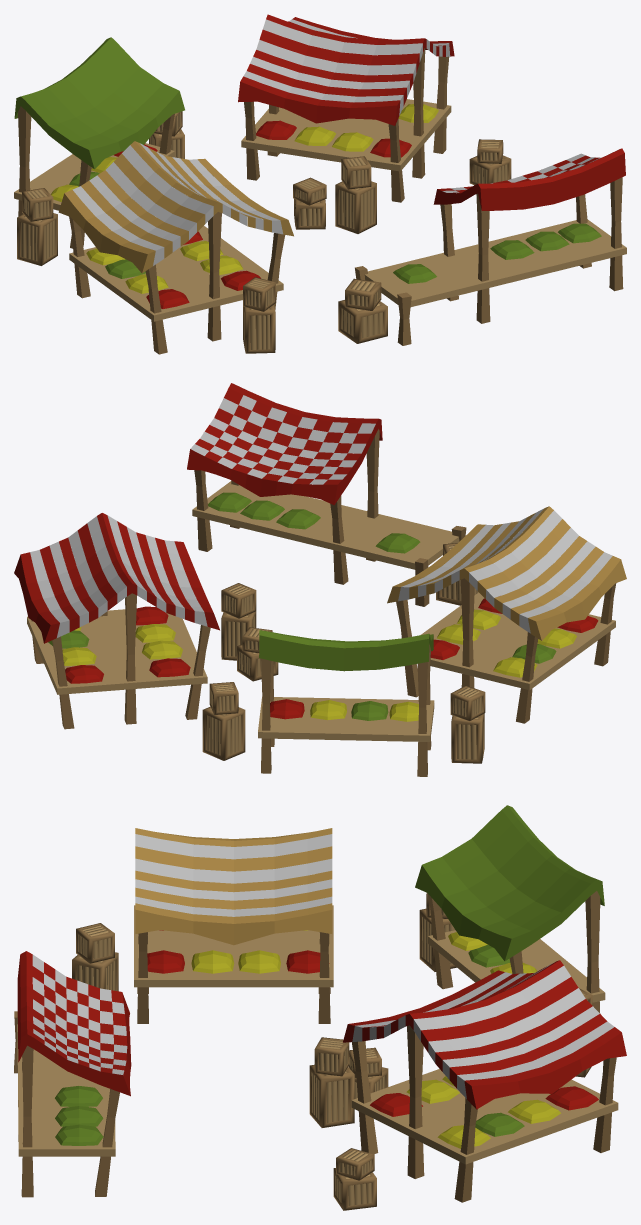
File: Market_FirstAge_Level2.glb
The picture shows the model from 3 angles, top to bottom: view 1: azimuth 30°, elevation 25°; view 2: azimuth 150°, elevation 25°; view 3: azimuth 270°, elevation 25°; orthographic projection. The views are drawn at different scales.
Parts seen in each view (by area): view 1: Market_FirstAge_Level2; view 2: Market_FirstAge_Level2; view 3: Market_FirstAge_Level2.
Boxes of the visible parts, x1,y1,x2,y2 form: Market_FirstAge_Level2: (14,14,626,354); Market_FirstAge_Level2: (14,383,626,776); Market_FirstAge_Level2: (14,805,626,1210).
Bounding box in the file's own units: 1.9 × 0.5526 × 1.87.
